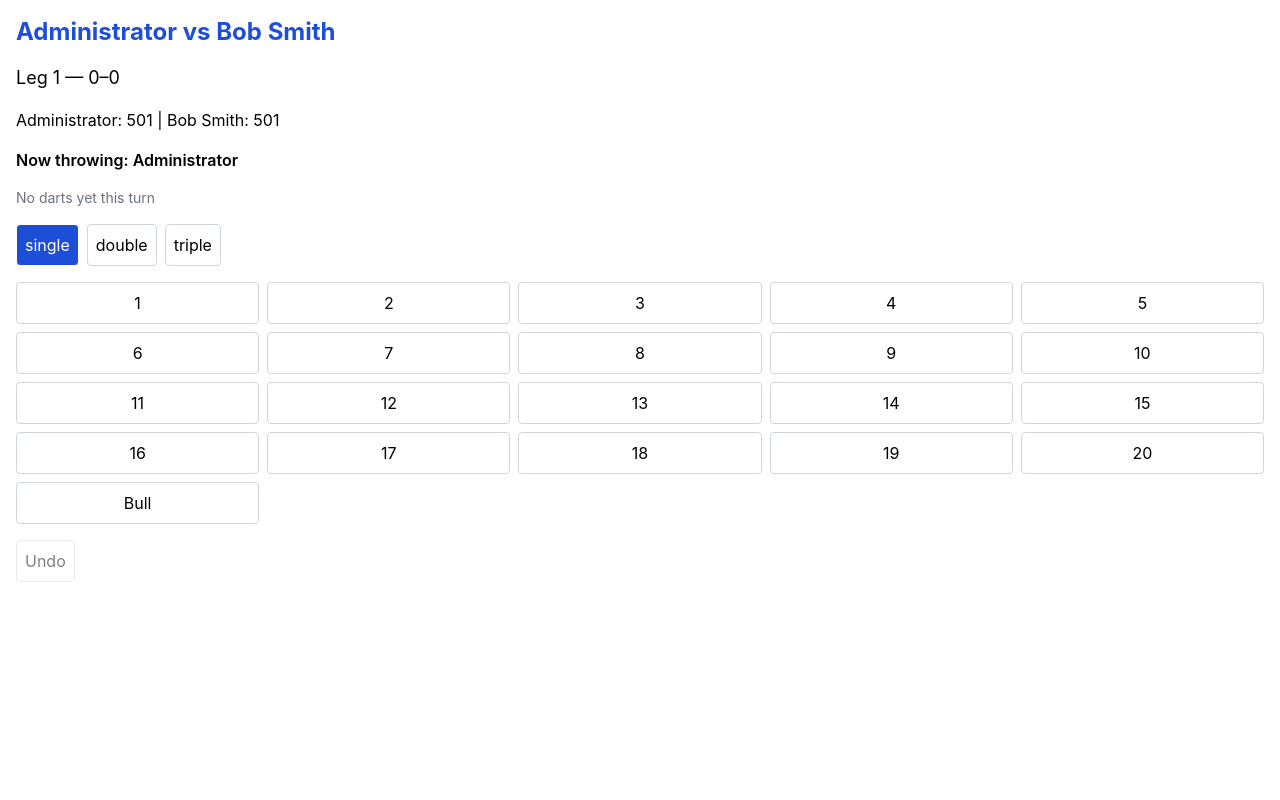
Test: LiveScoring › hides the Bull option when triple is selected
Check: the button "20" is shown, box [1021, 432, 1264, 474]
Check: the button "Bull" is shown, box [16, 482, 259, 524]
Click the button "triple" at (193, 245), box [165, 224, 221, 266]
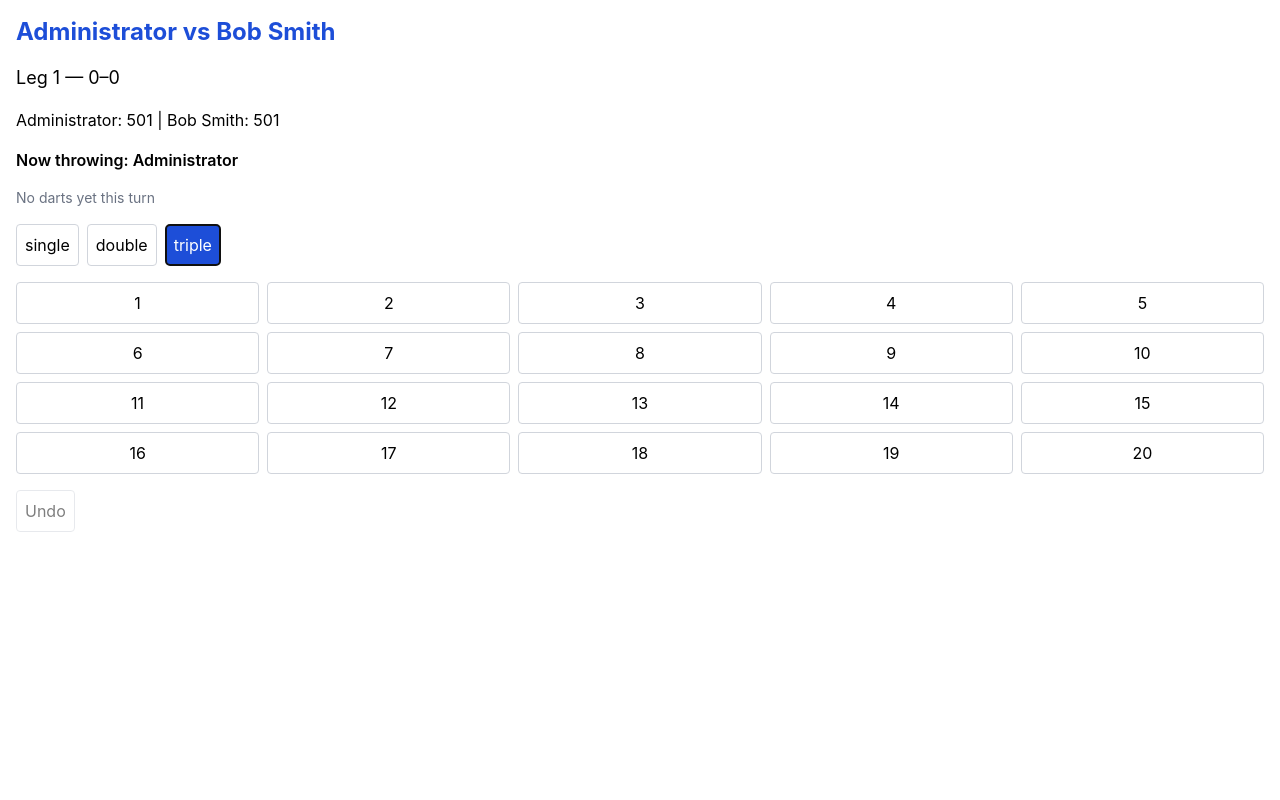
Check: the button "Bull" is gone
